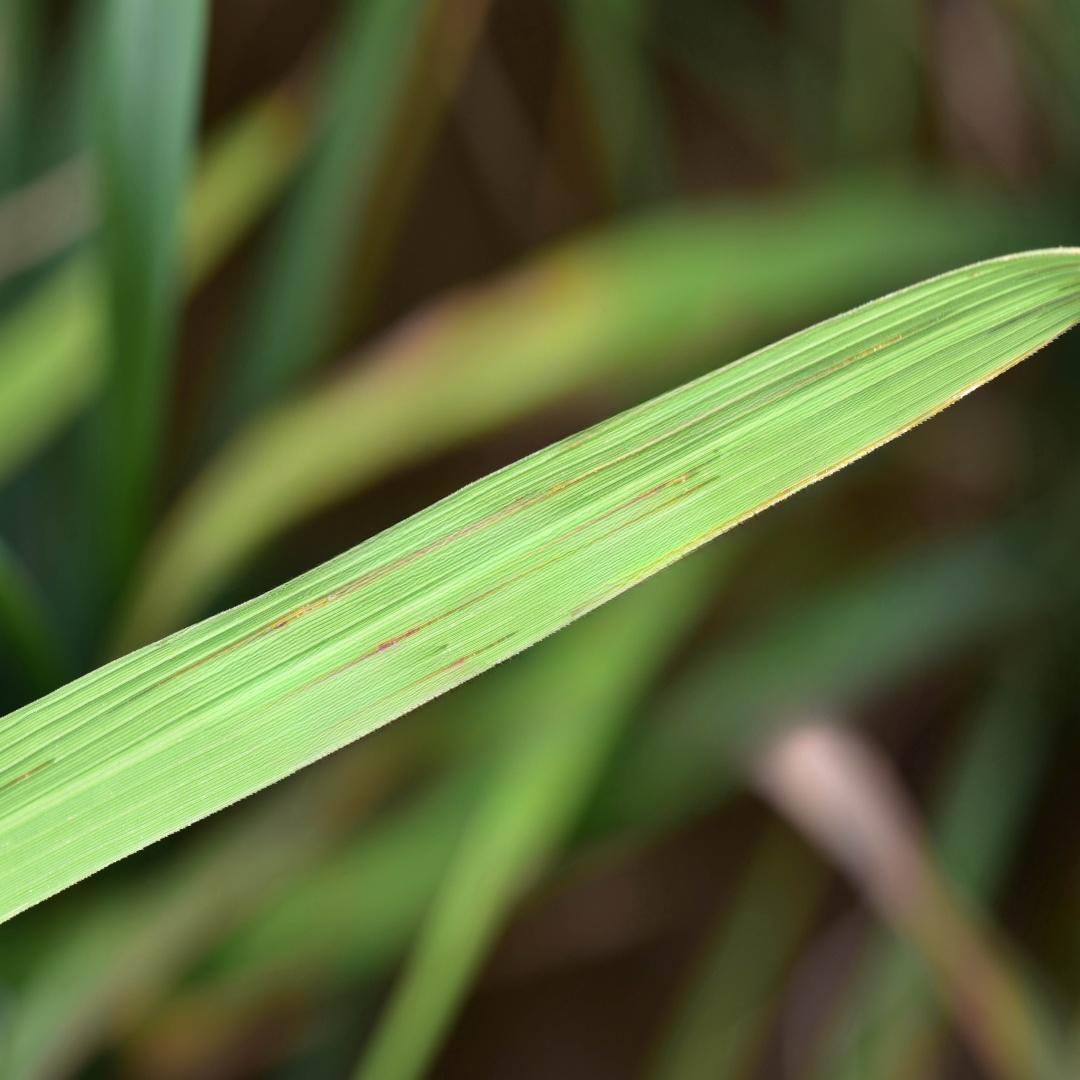BLS: (573, 327, 1068, 607), (139, 437, 673, 694), (274, 547, 577, 704), (741, 326, 920, 415), (366, 630, 520, 709), (547, 471, 700, 550), (588, 476, 722, 547), (0, 761, 51, 792)
